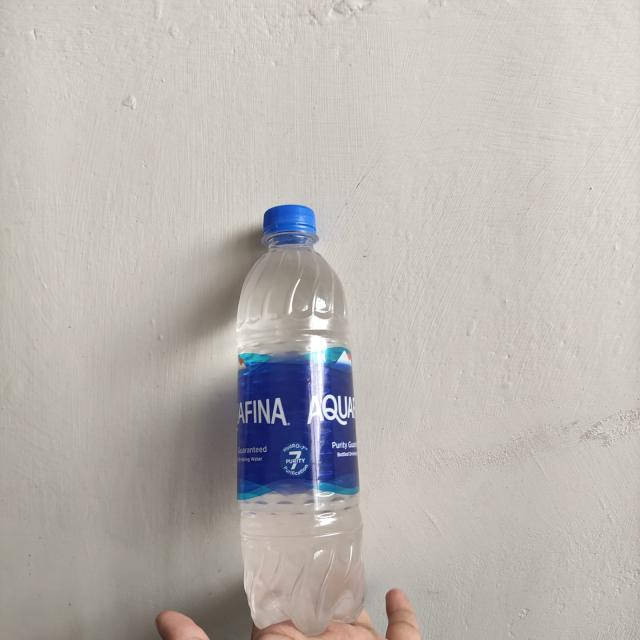bottle: (229, 199, 368, 636)
cap: (260, 198, 324, 253)
label: (235, 346, 364, 513)
